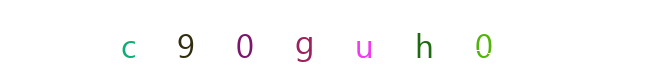0: (255, 0, 335, 80), (440, 0, 520, 80)
9: (232, 0, 312, 80)
C: (87, 0, 167, 80)
G: (287, 0, 367, 80)
H: (324, 0, 404, 80)
U: (290, 0, 370, 80)
